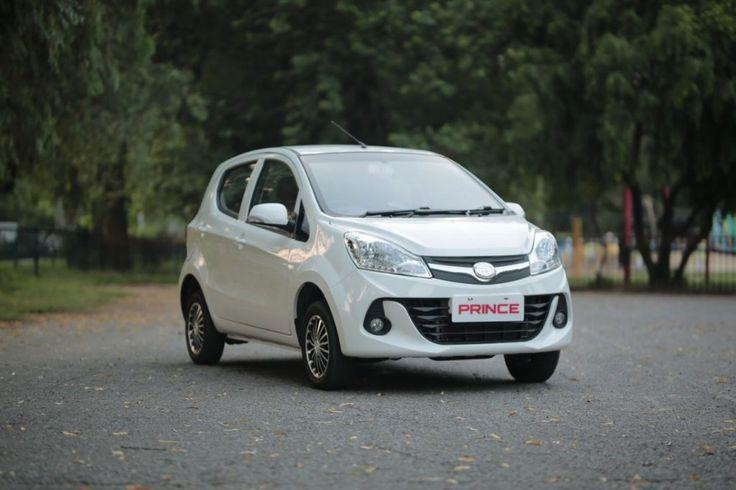windshield: (292, 149, 517, 221)
